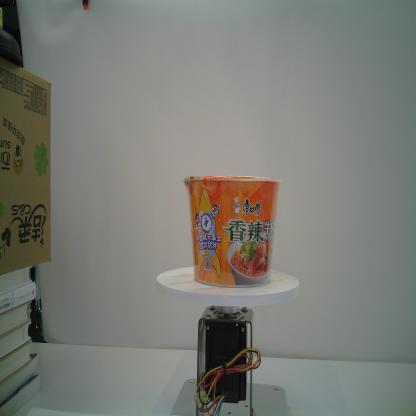Instant Noodles: (181, 173, 283, 292)
